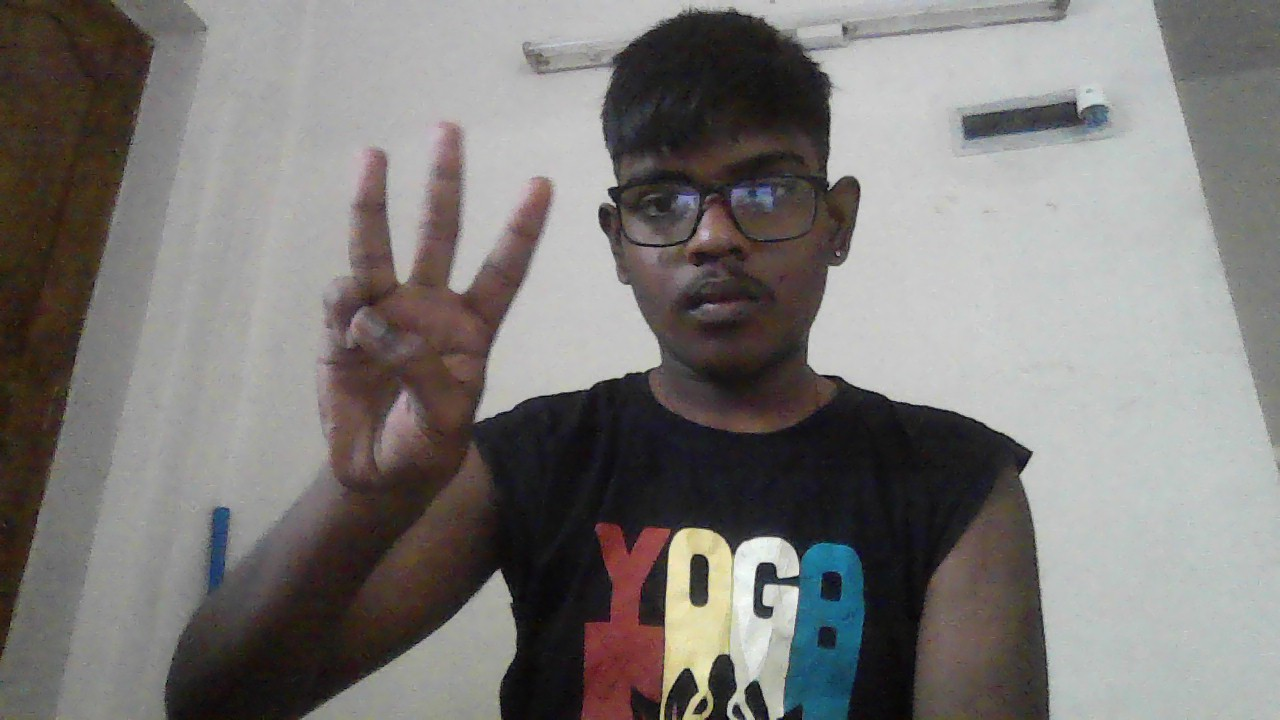W: (316, 120, 553, 474)
